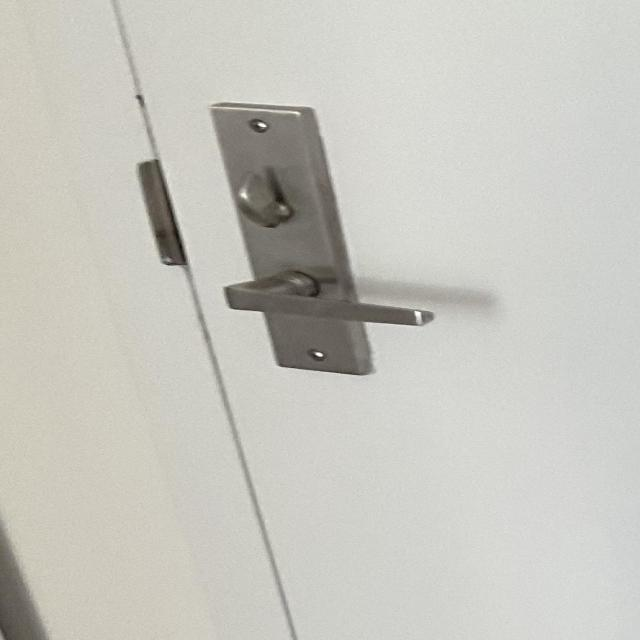door_handle: (201, 260, 453, 338)
